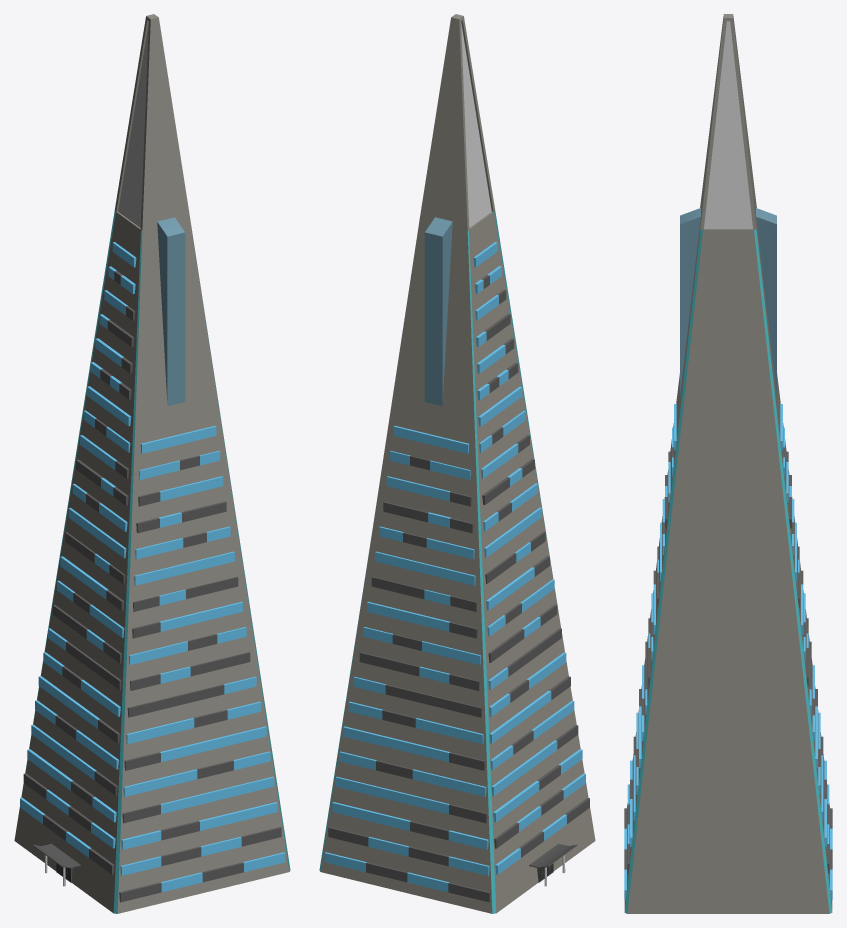
The model's file is building sf.FBX.
3 renders of one model, left to right at view 1: azimuth 30°, elevation 25°; view 2: azimuth 150°, elevation 25°; view 3: azimuth 270°, elevation 25°, orthographic.
Visible parts, largest first — view 1: polySurface29; view 2: polySurface29; view 3: polySurface29.
Boxes of the visible parts, bbox=[...] form: polySurface29: bbox=[14, 14, 290, 913]; polySurface29: bbox=[319, 14, 595, 913]; polySurface29: bbox=[624, 14, 832, 913].
Size of the model in its own units: 83.6 by 345 by 76.25.
Materials: 1 (1 with a texture image).
